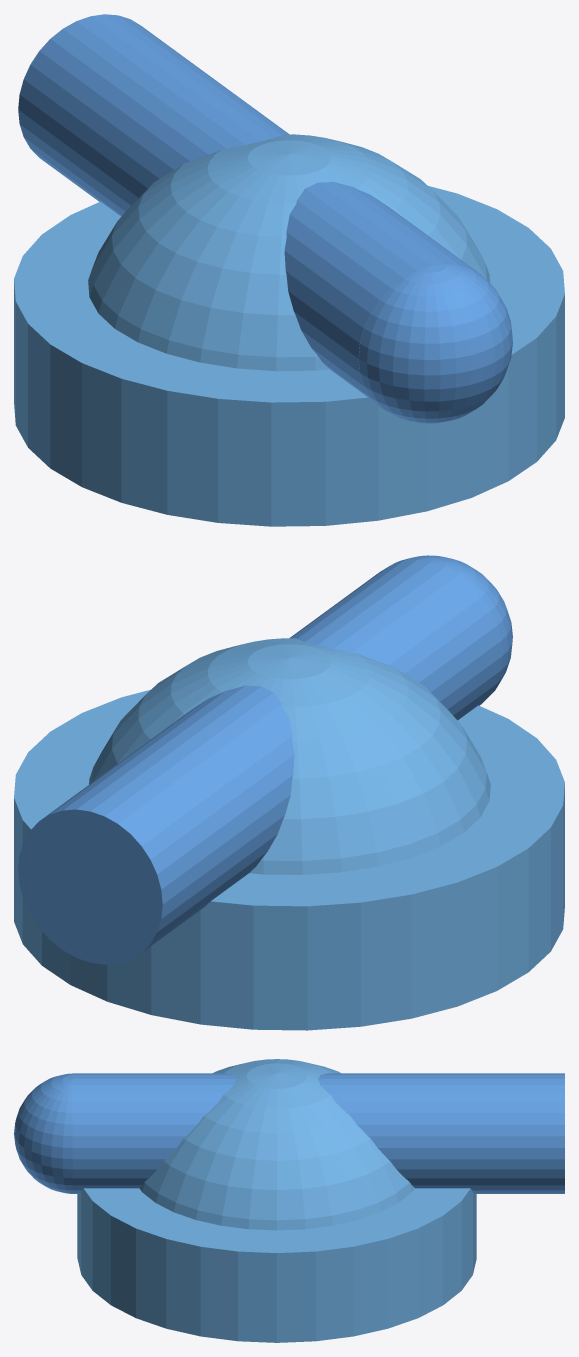
The model's file is Turm2.fbx.
3 views of the same model, one above another, from view 1: azimuth 30°, elevation 25°; view 2: azimuth 150°, elevation 25°; view 3: azimuth 270°, elevation 25° (orthographic). The views are drawn at different scales.
Parts seen in each view (by area): view 1: Cylinder, Canon, Sphere.001; view 2: Cylinder, Canon, Sphere.001; view 3: Cylinder, Canon, Sphere.001.
Part boxes in pixels (<box>): Cylinder: <box>14,186,564,526</box>; Canon: <box>18,14,512,423</box>; Sphere.001: <box>88,134,489,371</box>; Cylinder: <box>14,689,564,1030</box>; Canon: <box>18,555,512,964</box>; Sphere.001: <box>89,638,490,874</box>; Cylinder: <box>77,1188,476,1342</box>; Canon: <box>14,1073,564,1193</box>; Sphere.001: <box>139,1059,414,1230</box>.
Bounding box in the file's own units: 258 × 132 × 356.
